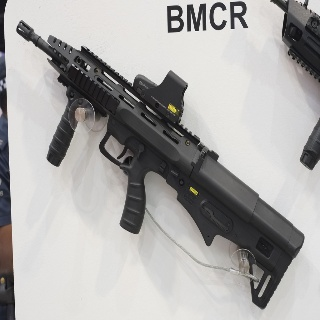rifle: (14, 18, 305, 313)
